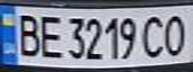1: (103, 14, 121, 61)
2: (81, 14, 106, 61)
3: (63, 14, 87, 61)
9: (118, 14, 142, 61)
B: (9, 10, 42, 57)
C: (139, 11, 172, 60)
E: (36, 11, 63, 58)
O: (160, 10, 190, 58)
